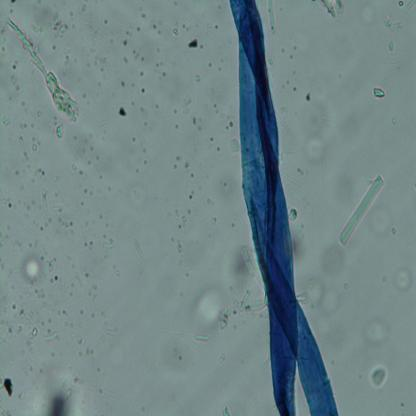Background material: (7, 15, 80, 124), (42, 259, 106, 361), (167, 155, 200, 278), (306, 274, 348, 347), (3, 301, 58, 349), (34, 368, 82, 414), (192, 282, 230, 336), (162, 323, 200, 372), (301, 103, 328, 162), (38, 200, 77, 240), (364, 315, 394, 352), (21, 249, 49, 287), (88, 49, 114, 84), (369, 207, 394, 236), (326, 242, 344, 276), (319, 0, 346, 22), (267, 0, 279, 48), (383, 10, 405, 35), (394, 266, 414, 293), (355, 0, 375, 27), (47, 16, 69, 37), (369, 364, 389, 387), (11, 59, 24, 94), (0, 376, 15, 400), (152, 60, 168, 82), (219, 110, 234, 130), (53, 119, 67, 140), (128, 49, 146, 65), (227, 137, 242, 156), (32, 166, 46, 184), (104, 240, 117, 259), (288, 204, 300, 223), (23, 150, 32, 174), (371, 85, 386, 98), (180, 100, 192, 116), (0, 26, 7, 52), (0, 231, 11, 247), (186, 38, 199, 51), (26, 236, 40, 248), (2, 197, 14, 210), (82, 238, 93, 252), (25, 197, 36, 211), (30, 136, 40, 151), (23, 361, 32, 377), (150, 22, 162, 34), (63, 52, 73, 66), (20, 122, 37, 130), (14, 391, 26, 402), (191, 72, 202, 84), (118, 52, 128, 65), (388, 40, 396, 56), (170, 26, 180, 38), (118, 107, 129, 117), (220, 404, 229, 416), (181, 21, 190, 33), (206, 196, 215, 208), (388, 116, 398, 126), (89, 228, 99, 238), (137, 10, 147, 20), (85, 133, 94, 144), (378, 272, 386, 284), (212, 101, 220, 113), (138, 104, 148, 113), (74, 167, 83, 177), (130, 136, 139, 145), (170, 106, 178, 116), (190, 117, 198, 127), (133, 24, 141, 34), (121, 37, 129, 47), (7, 0, 20, 6), (119, 77, 126, 88), (172, 121, 180, 130), (34, 110, 43, 118), (209, 217, 218, 225), (295, 166, 302, 176), (220, 352, 227, 362), (292, 83, 298, 94), (144, 121, 152, 129), (80, 4, 88, 12), (304, 92, 311, 101), (398, 0, 404, 10), (198, 41, 204, 51), (138, 70, 145, 78), (217, 55, 224, 63), (126, 29, 133, 37), (390, 228, 396, 237), (4, 117, 10, 126), (96, 366, 102, 375), (18, 136, 24, 144), (293, 44, 299, 52), (14, 168, 20, 176), (204, 62, 212, 68), (85, 159, 91, 166), (90, 147, 96, 154), (280, 49, 288, 54), (130, 100, 135, 108), (209, 136, 214, 144), (222, 180, 227, 188), (100, 212, 104, 221), (80, 200, 86, 206), (102, 234, 108, 240), (20, 102, 26, 108), (83, 186, 88, 193), (52, 44, 57, 51), (135, 167, 140, 174), (213, 23, 218, 30), (292, 69, 297, 76), (143, 158, 148, 165), (141, 87, 145, 95), (105, 220, 109, 228), (217, 64, 221, 72), (70, 165, 76, 170), (288, 55, 293, 61), (104, 19, 109, 25), (215, 146, 220, 152), (96, 155, 100, 162), (98, 176, 103, 180), (106, 187, 111, 191), (142, 150, 147, 154), (100, 388, 102, 394)
Cotton: (228, 0, 340, 416)
Glass filter fibre: (338, 175, 384, 248), (226, 242, 268, 319), (129, 371, 151, 415), (40, 188, 49, 213), (295, 288, 309, 304), (134, 236, 144, 258), (194, 332, 210, 344), (106, 327, 116, 338), (406, 0, 416, 10)
